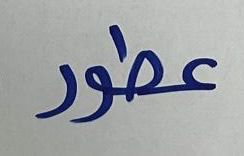ain: (168, 48, 220, 95)
reh: (33, 58, 76, 119)
tah: (112, 17, 166, 105)
waw: (78, 57, 110, 124)
